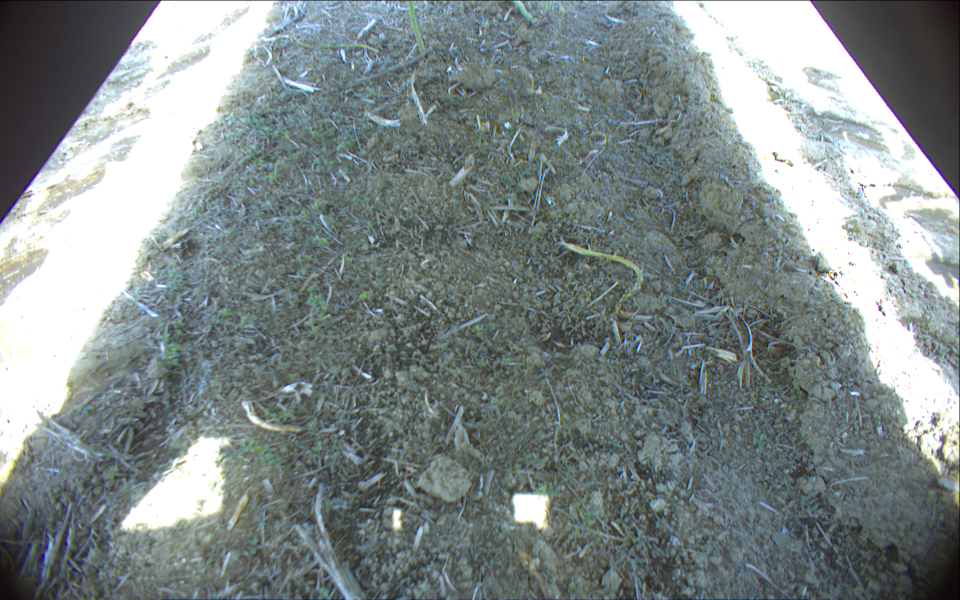aspa: (561, 240, 644, 335), (291, 37, 379, 53), (408, 1, 426, 53), (511, 1, 534, 22), (544, 1, 551, 16)
